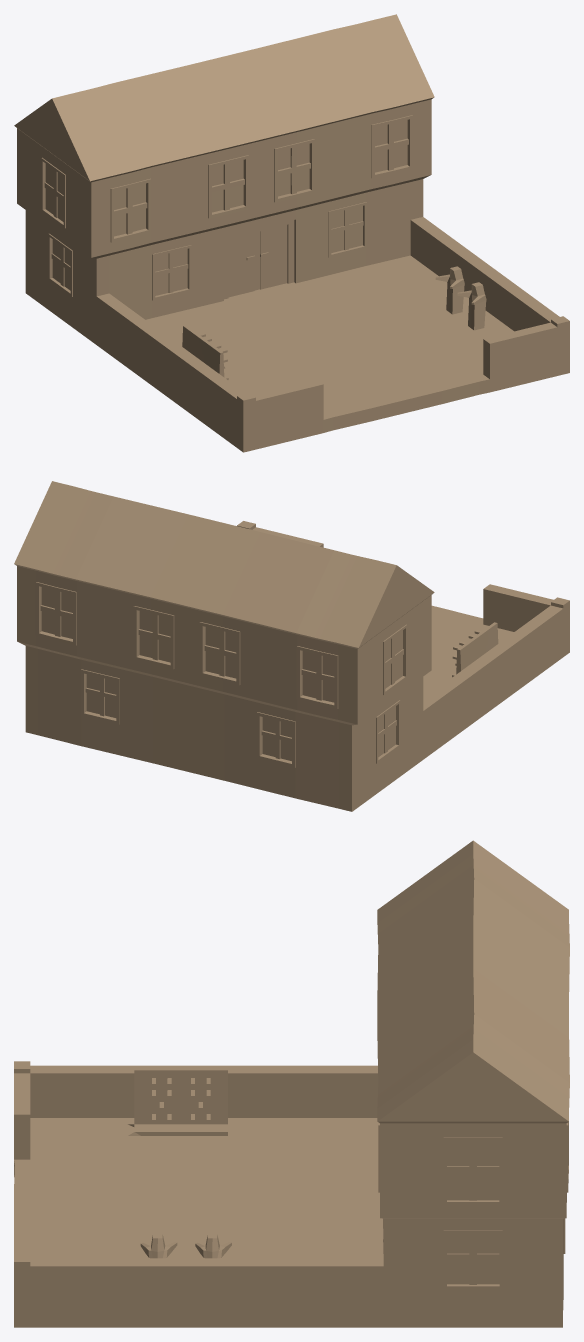
File: barracks 00.fbx
The picture shows the model from 3 angles, top to bottom: view 1: azimuth 30°, elevation 25°; view 2: azimuth 150°, elevation 25°; view 3: azimuth 270°, elevation 25°; orthographic projection. The views are drawn at different scales.
Parts seen in each view (by area): view 1: Plane; view 2: Plane; view 3: Plane.
Part boxes in pixels (box(x1,y1,x2,y2)): Plane: box(14, 14, 569, 452); Plane: box(14, 481, 569, 811); Plane: box(14, 840, 569, 1327).
Size of the model in its own units: 5.5 by 3.4 by 6.1.
